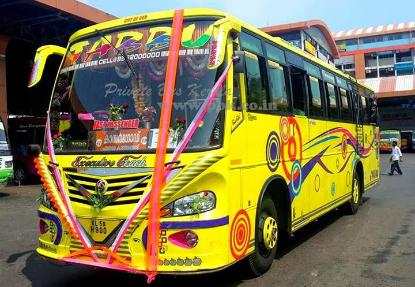bus: (23, 10, 386, 280)
